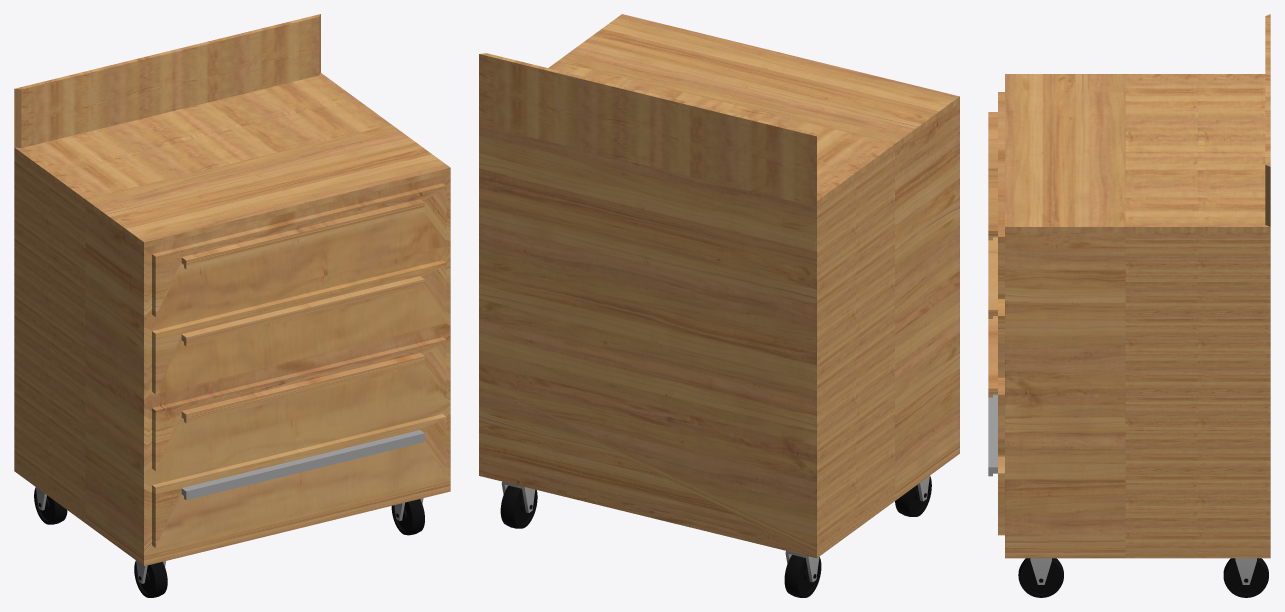
File: Cabinetje.fbx
3 renders of one model, left to right at view 1: azimuth 30°, elevation 25°; view 2: azimuth 150°, elevation 25°; view 3: azimuth 270°, elevation 25°, orthographic. The views are drawn at different scales.
Visible parts, largest first — view 1: Cabinet, Drawer1, Drwer2, Drawer4, Drawer3, Wheel_4, Wheel_3, Wheel; view 2: Cabinet, Wheel_2, Wheel, Wheel_4; view 3: Cabinet, Drawer1, Drawer4, Drawer3, Drwer2, Wheel_2, Wheel_3, WheelBase_2, WheelBase_3.
Part boxes in pixels (bbox=[...]): Cabinet: bbox=[14, 14, 450, 566]; Drawer1: bbox=[152, 183, 446, 317]; Drwer2: bbox=[152, 260, 446, 394]; Drawer4: bbox=[152, 414, 446, 547]; Drawer3: bbox=[152, 337, 446, 470]; Wheel_4: bbox=[134, 561, 167, 597]; Wheel_3: bbox=[391, 499, 424, 535]; Wheel: bbox=[34, 487, 67, 524]; Cabinet: bbox=[479, 14, 959, 558]; Wheel_2: bbox=[500, 485, 537, 528]; Wheel: bbox=[784, 555, 821, 597]; Wheel_4: bbox=[895, 476, 931, 516]; Cabinet: bbox=[1005, 14, 1270, 558]; Drawer1: bbox=[988, 92, 1004, 298]; Drawer4: bbox=[988, 394, 1004, 535]; Drawer3: bbox=[988, 316, 1004, 456]; Drwer2: bbox=[988, 237, 1004, 377]; Wheel_2: bbox=[1223, 558, 1268, 597]; Wheel_3: bbox=[1018, 558, 1063, 597]; WheelBase_2: bbox=[1235, 558, 1256, 584]; WheelBase_3: bbox=[1030, 558, 1051, 584].
Bounding box in the file's own units: 50 × 67.22 × 38.97.
3 materials, 1 textured.
